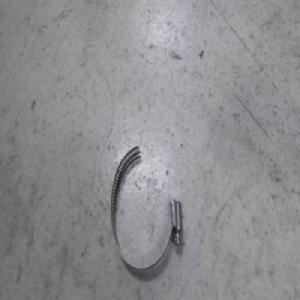AdjustableClamp: (109, 141, 181, 269)
